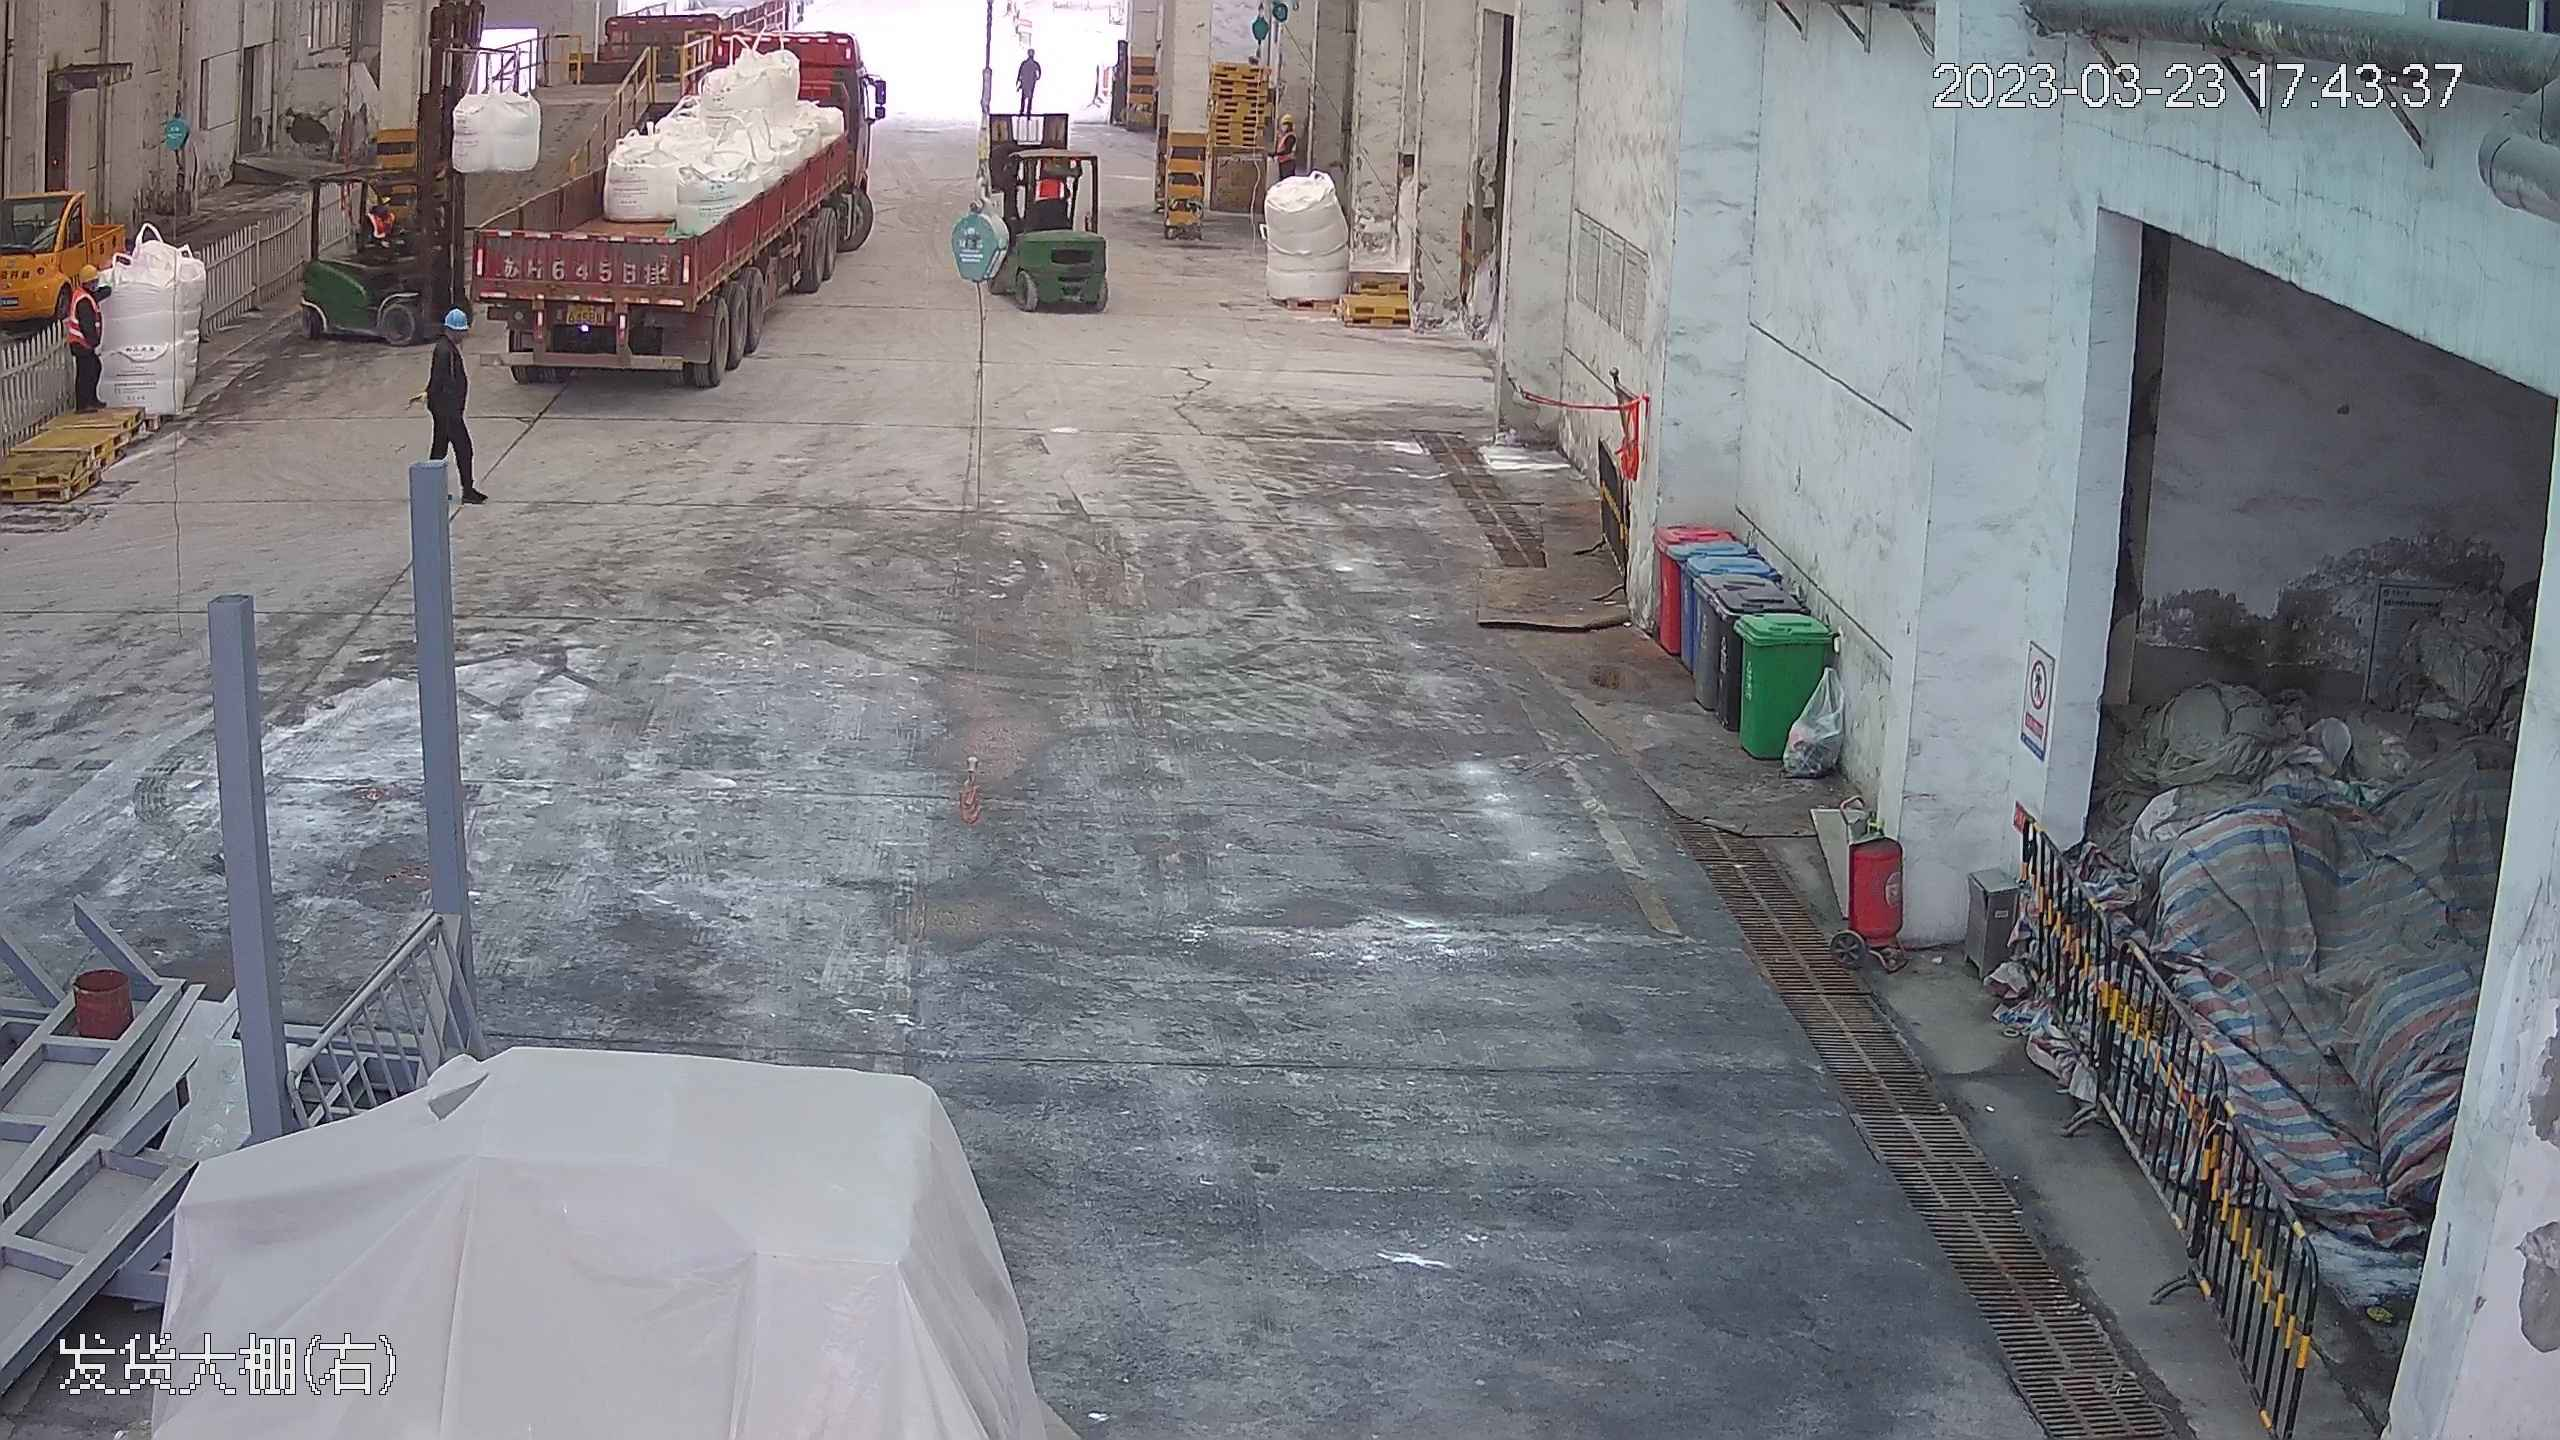head: (429, 305, 473, 368), (62, 258, 107, 315), (1033, 160, 1071, 199)
helmet: (442, 305, 470, 329), (74, 262, 102, 285)
people: (429, 304, 488, 508), (54, 256, 112, 414), (1017, 43, 1041, 119)
truck: (458, 8, 885, 386)
